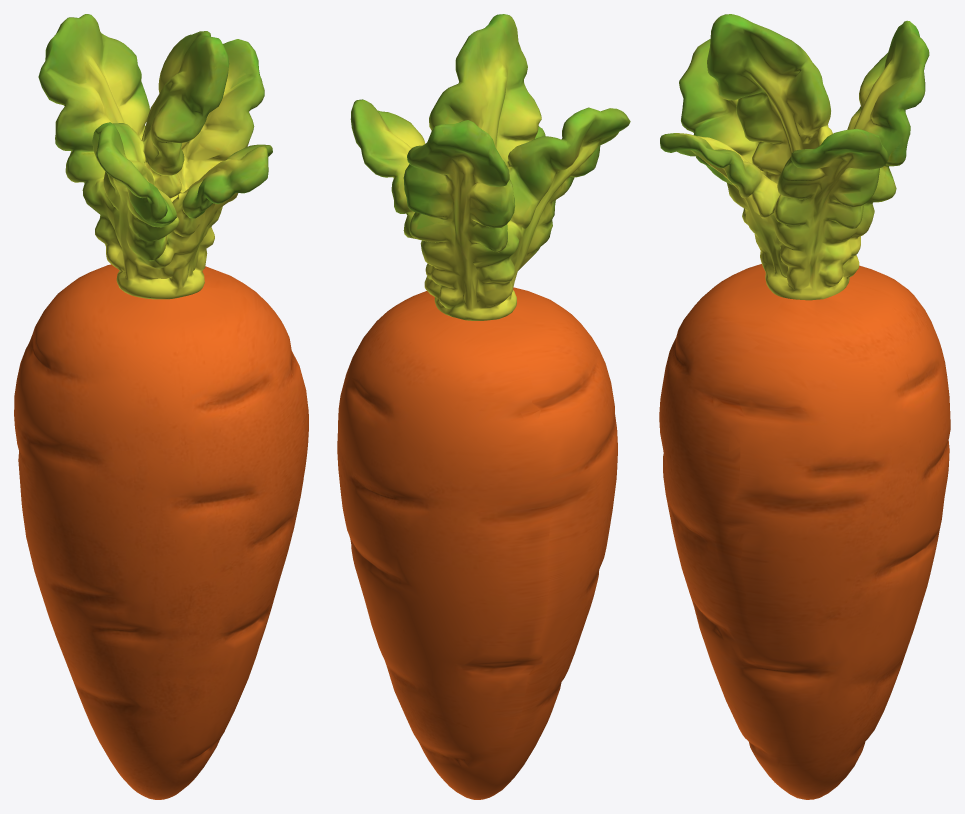
File: food_carrot.glb
The picture shows the model from 3 angles, left to right: view 1: azimuth 30°, elevation 25°; view 2: azimuth 150°, elevation 25°; view 3: azimuth 270°, elevation 25°; orthographic projection. The views are drawn at different scales.
Parts seen in each view (by area): view 1: food_carrot; view 2: food_carrot; view 3: food_carrot.
Part boxes in pixels (x1,y1,x2,y2): food_carrot: (14,14,308,799); food_carrot: (337,14,630,799); food_carrot: (659,14,950,799).
Bounding box in the file's own units: 27.17 × 80 × 26.76.
Materials: 2 (2 with a texture image).
